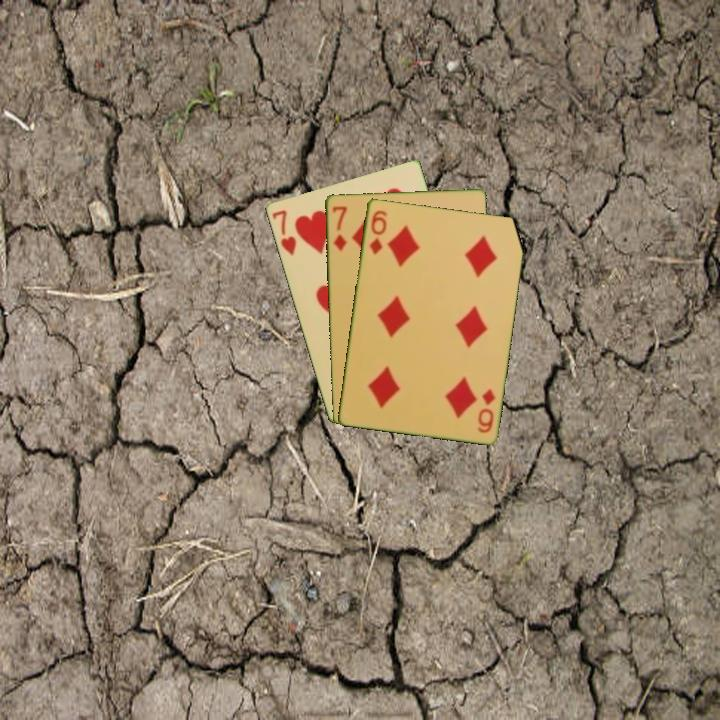6d: (474, 385, 498, 436), (366, 206, 389, 257)
7d: (329, 202, 349, 254)
7h: (268, 206, 299, 258)
